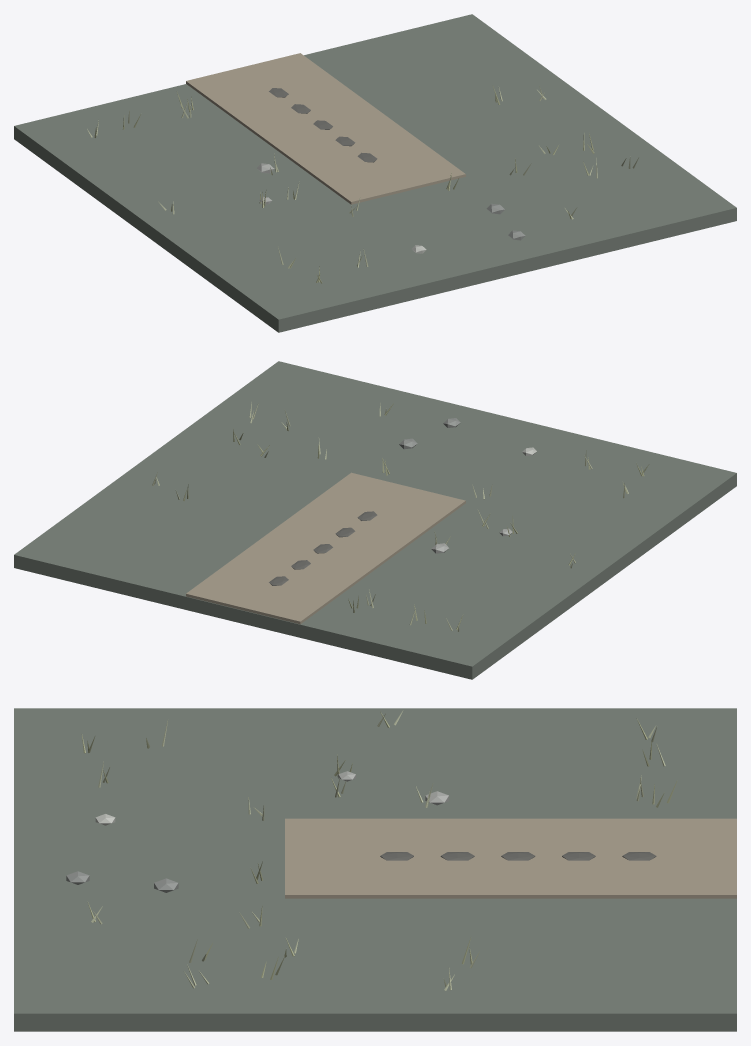
The model's file is path_cap_n.glb.
3 renders of one model, top to bottom at view 1: azimuth 30°, elevation 25°; view 2: azimuth 150°, elevation 25°; view 3: azimuth 270°, elevation 25°, orthographic. The views are drawn at different scales.
Parts seen in each view (by area): view 1: road_material_00, road_material_01, road_material_03, road_material_07, road_material_04; view 2: road_material_00, road_material_01, road_material_07, road_material_03, road_material_04; view 3: road_material_00, road_material_01, road_material_07, road_material_03, road_material_04.
Boxes of the visible parts, x1,y1,x2,y2 form: road_material_00: [14, 14, 736, 332]; road_material_01: [186, 53, 465, 204]; road_material_03: [87, 86, 638, 268]; road_material_07: [269, 88, 377, 162]; road_material_04: [94, 85, 594, 283]; road_material_00: [14, 361, 736, 679]; road_material_01: [186, 472, 465, 624]; road_material_07: [269, 511, 377, 585]; road_material_03: [152, 402, 628, 631]; road_material_04: [183, 403, 649, 630]; road_material_00: [14, 708, 736, 1031]; road_material_01: [285, 818, 736, 898]; road_material_07: [380, 852, 656, 860]; road_material_03: [91, 710, 665, 990]; road_material_04: [81, 711, 677, 979].
Size of the model in its own units: 8 by 0.5363 by 8.
